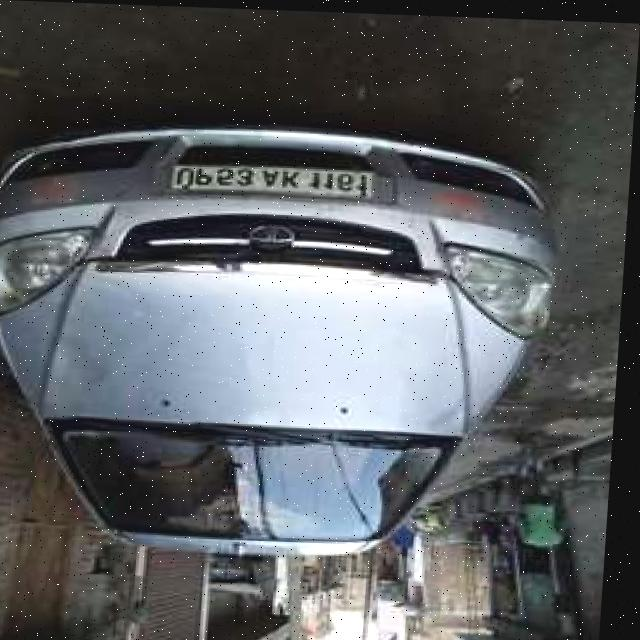plate: (172, 159, 378, 197)
